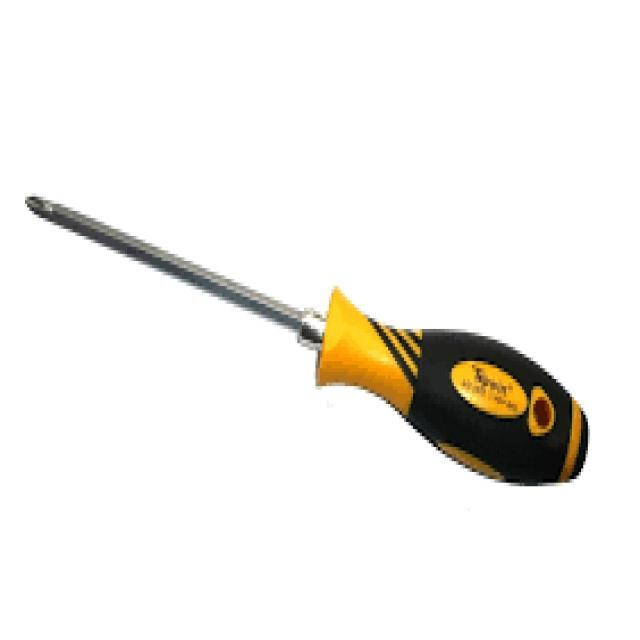screwdriver: (24, 192, 590, 488)
